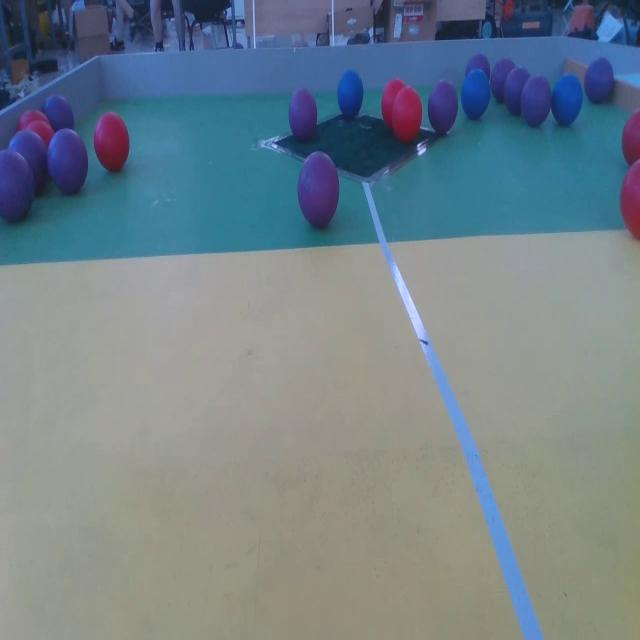blue: (553, 73, 583, 125), (336, 70, 365, 120), (463, 70, 492, 116)
invalid: (298, 146, 340, 230), (0, 146, 36, 228), (52, 122, 89, 197), (426, 78, 460, 140), (286, 88, 322, 144), (585, 58, 619, 106), (523, 78, 553, 125), (505, 68, 532, 112), (493, 60, 519, 101)
red: (95, 109, 131, 173), (620, 160, 640, 245), (394, 87, 421, 140), (382, 78, 403, 128), (622, 108, 640, 164), (19, 109, 48, 138), (26, 119, 54, 146)
